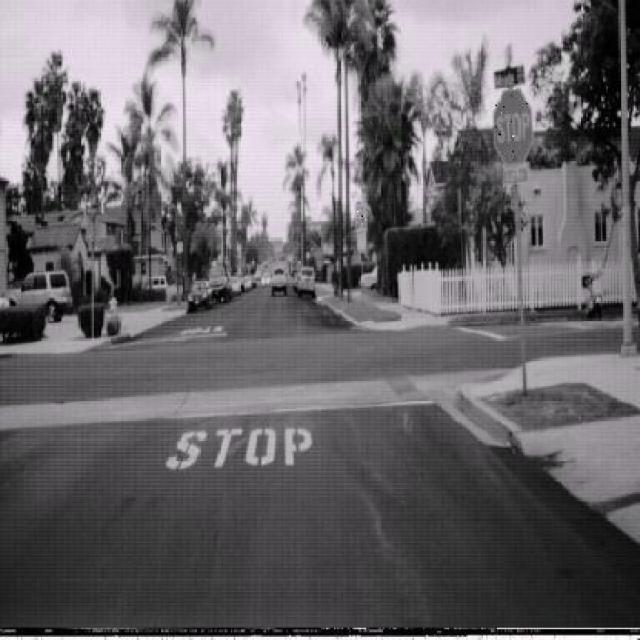speedLimit25: (355, 203, 368, 234)
stop: (492, 89, 534, 169)
